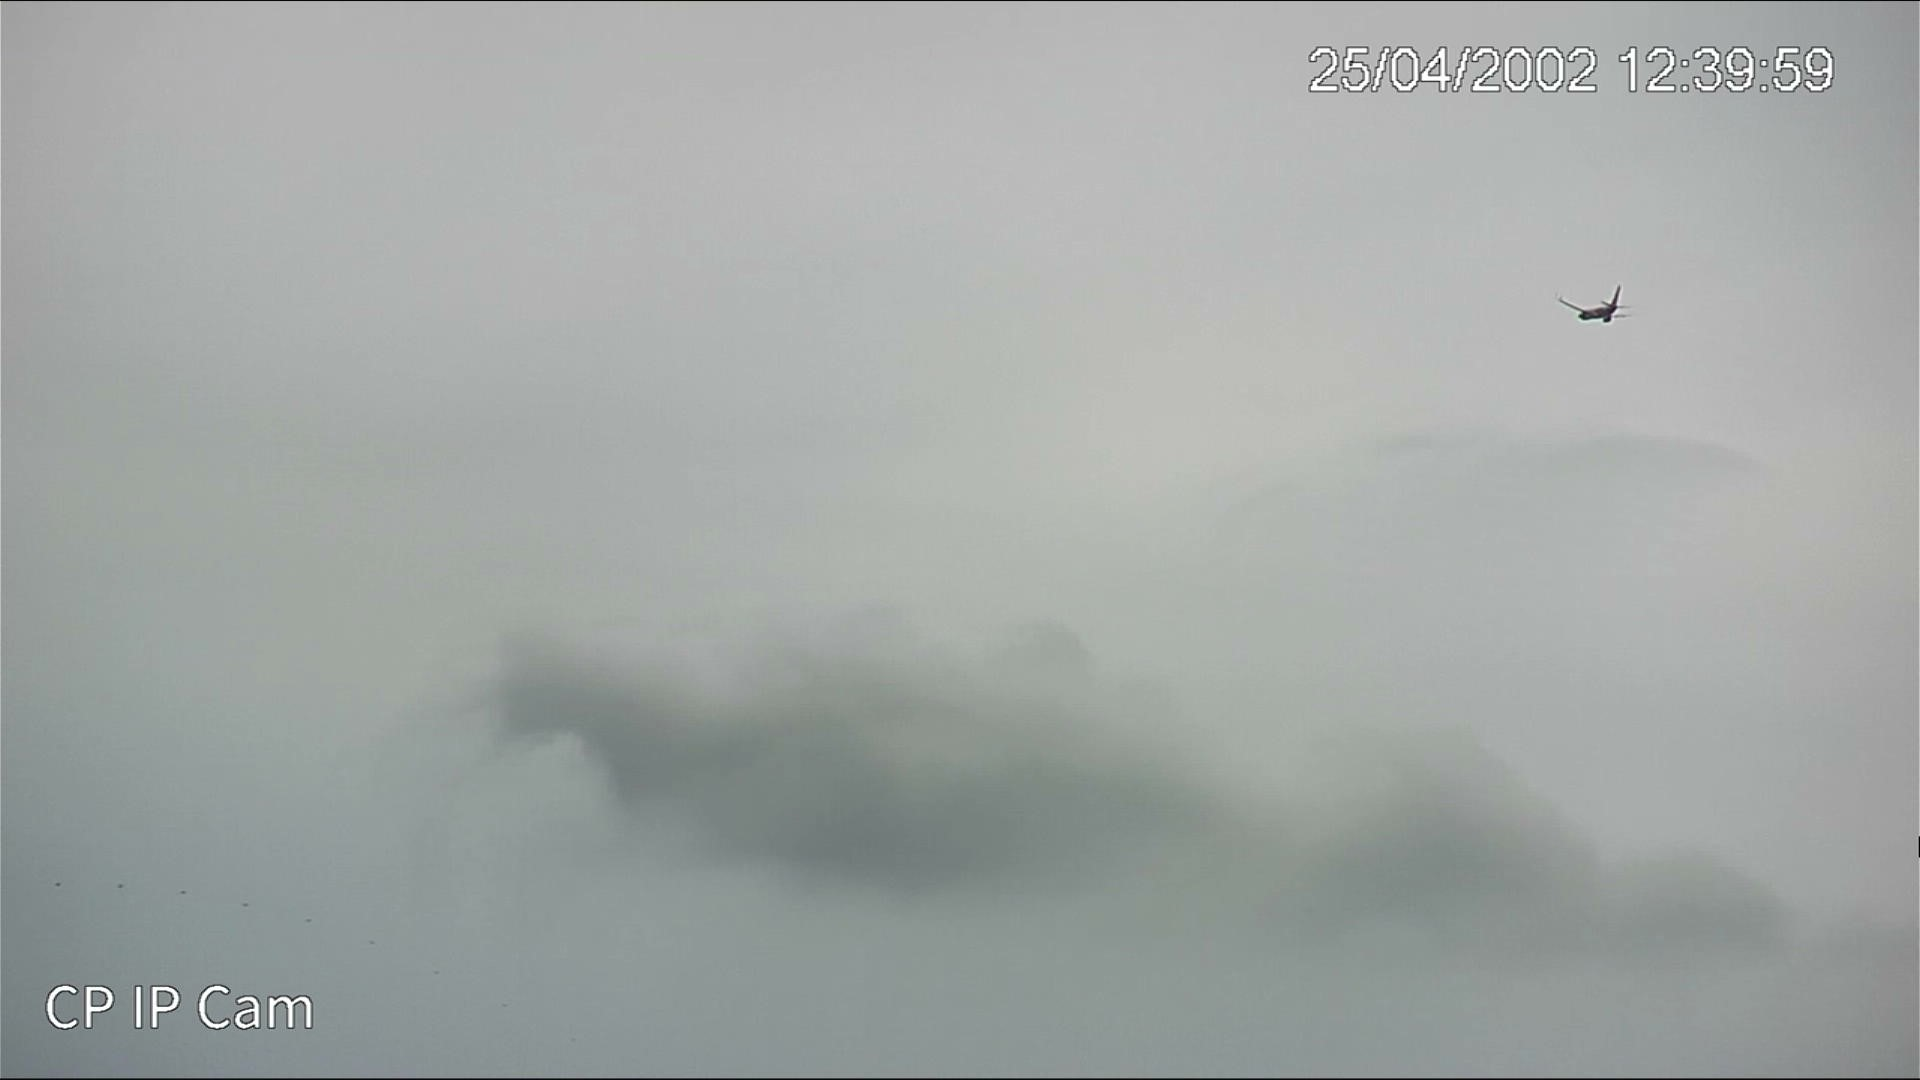SU_30: (1559, 284, 1631, 322)
